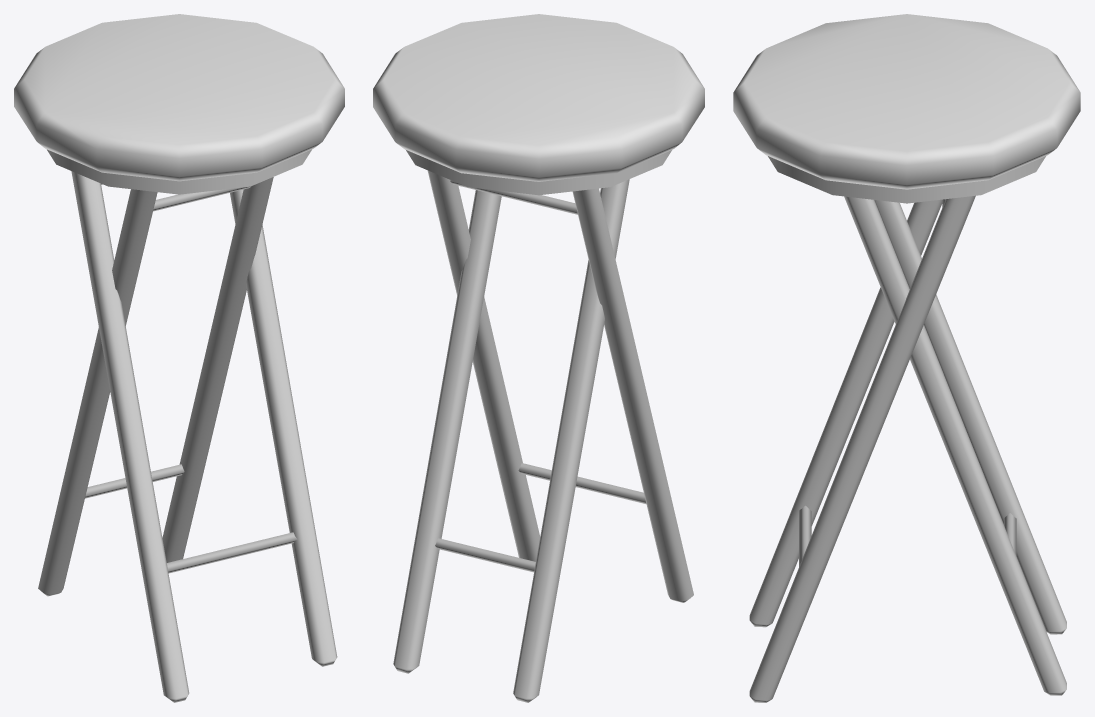
Rendered from chair_019.fbx.
The picture shows the model from 3 angles, left to right: view 1: azimuth 30°, elevation 25°; view 2: azimuth 150°, elevation 25°; view 3: azimuth 270°, elevation 25°; orthographic projection. The views are drawn at different scales.
Visible parts, largest first — view 1: chair_019; view 2: chair_019; view 3: chair_019.
Boxes of the visible parts, x1,y1,x2,y2 form: chair_019: (14, 14, 344, 702); chair_019: (373, 14, 704, 702); chair_019: (733, 14, 1080, 702).
Size of the model in its own units: 55.71 by 55.77 by 103.
